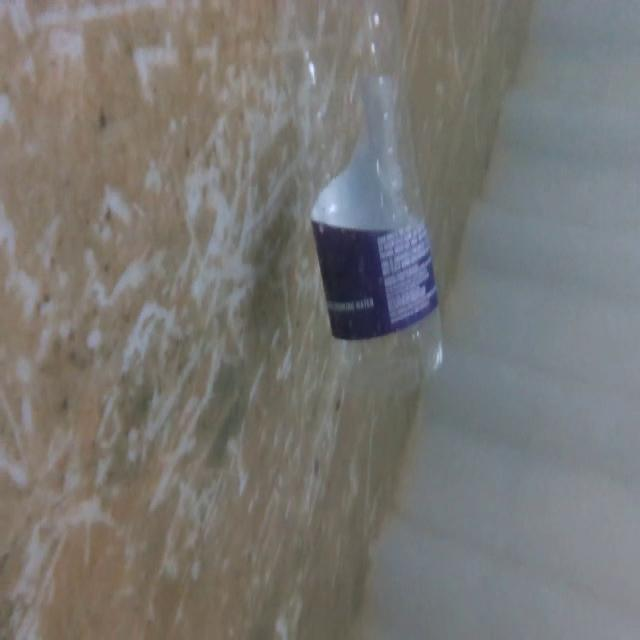plastic bottle: (264, 4, 465, 396)
